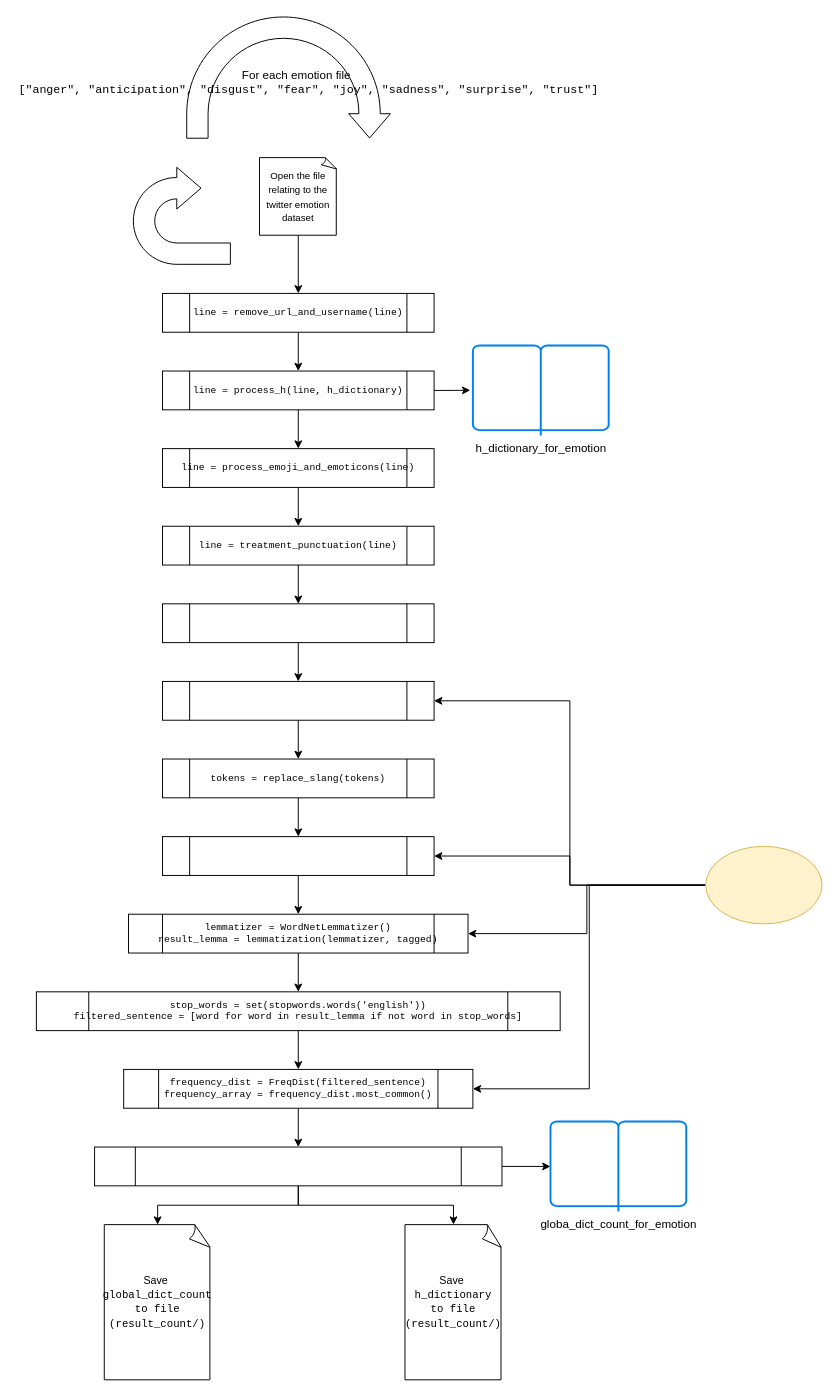
The diagram is 839 pixels wide and 1397 high, and some of its shapes have lost their labels. Here are the shapes that lost their labels. From the top down, the centre of each, then its label:
At pixel 181 215: "For each line of file".
At pixel 298 623: "line = line.lower()".
At pixel 298 700: "tknzr = TweetTokenizer() tokens = tknzr.tokenize(line)".
At pixel 298 855: "tagged = nltk.pos_tag(tokens)".
At pixel 763 884: "Natural Language Toolkit".
At pixel 298 1166: "adding_to_dictionary(frequency_array , global_dict_count)".
